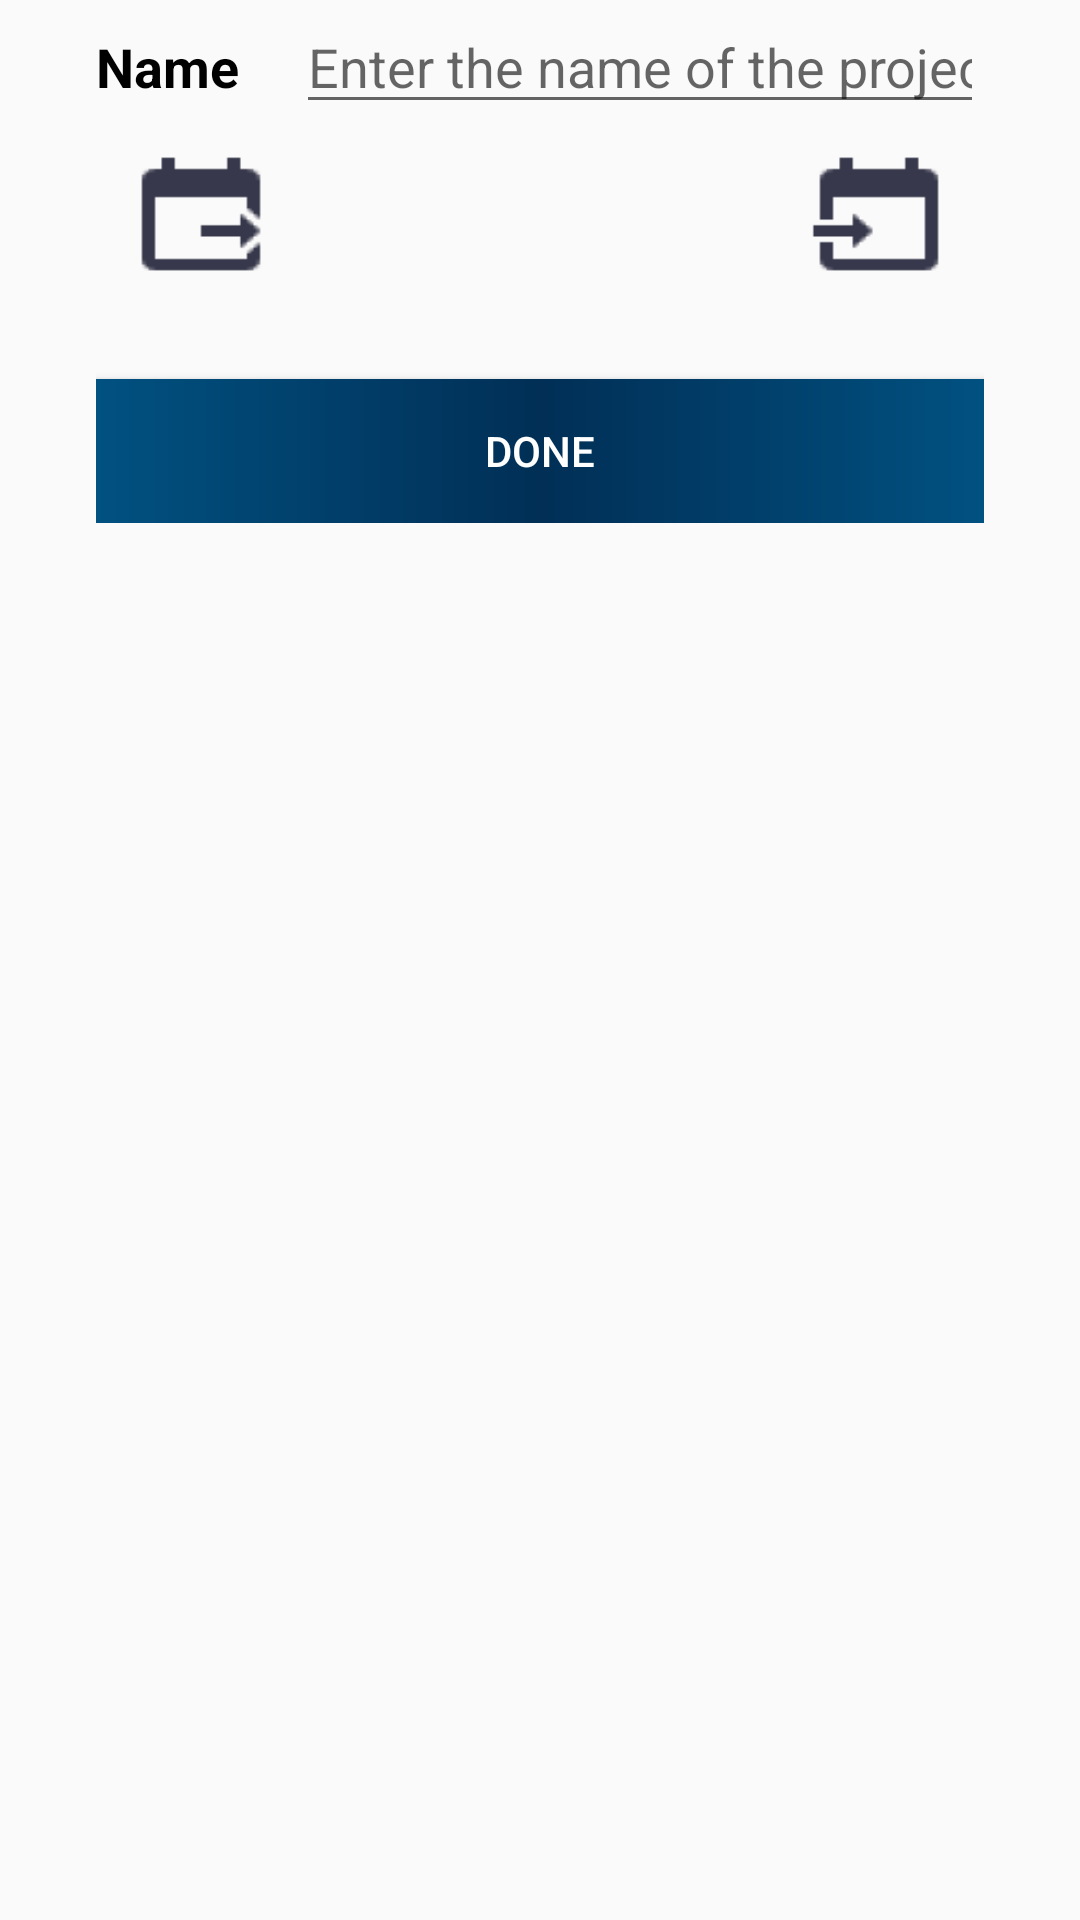

Icon bounding boxes for this 1080 x 1920 phone screenshot, format (x1, y1, x2, y2):
date from: (141, 157, 261, 271)
date to: (813, 157, 939, 271)
